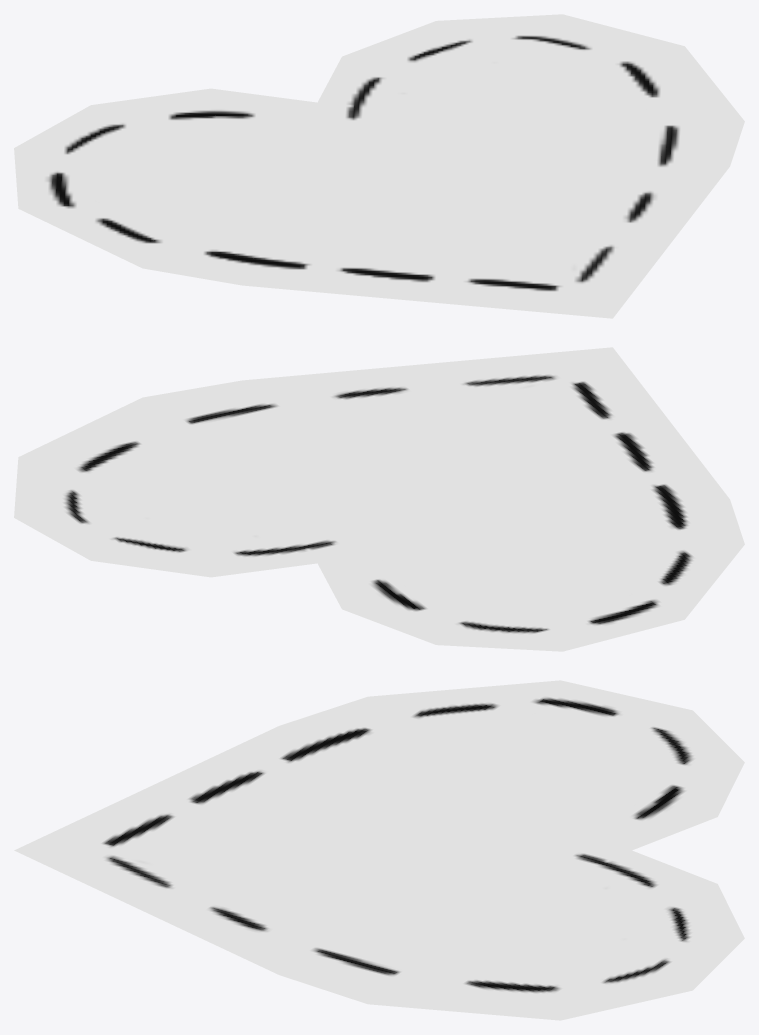
The model's file is patch-heart.fbx.
3 renders of one model, top to bottom at view 1: azimuth 30°, elevation 25°; view 2: azimuth 150°, elevation 25°; view 3: azimuth 270°, elevation 25°, orthographic. The views are drawn at different scales.
Parts seen in each view (by area): view 1: patch-heart; view 2: patch-heart; view 3: patch-heart.
Part boxes in pixels (x1,y1,x2,y2): patch-heart: (14,14,744,318); patch-heart: (14,347,744,651); patch-heart: (14,680,744,1020).
Bounding box in the file's own units: 21.24 × 0 × 19.28.
Materials: 1 (1 with a texture image).
